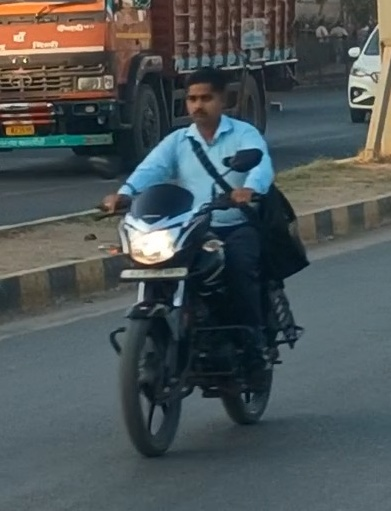BikeWithRider: (82, 57, 315, 458)
NoHelmet: (181, 65, 233, 127)
